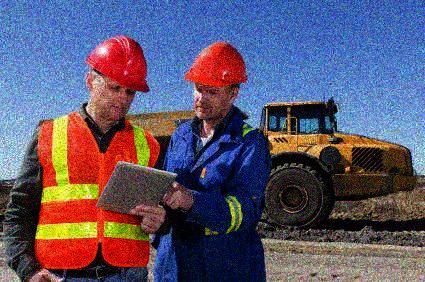helmet: (83, 35, 153, 122), (184, 40, 250, 121)
